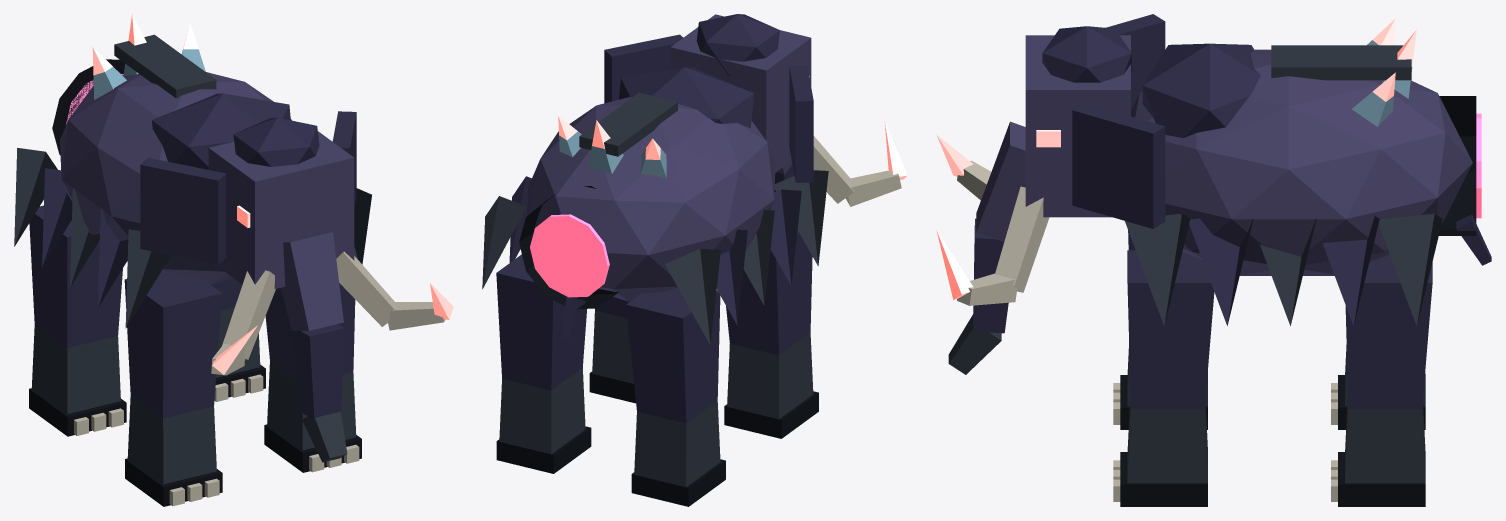
Rendered from shell.glb.
3 views of the same model, side by side, from view 1: azimuth 30°, elevation 25°; view 2: azimuth 150°, elevation 25°; view 3: azimuth 270°, elevation 25° (orthographic). The views are drawn at different scales.
Visible parts, largest first — view 1: IShellHull, IShellGlow; view 2: IShellHull, IShellGlow; view 3: IShellHull, IShellGlow.
Boxes of the visible parts, left/top/right/bottom form: IShellHull: left=14, top=34, right=445, bottom=506; IShellGlow: left=66, top=14, right=453, bottom=374; IShellHull: left=482, top=14, right=901, bottom=506; IShellGlow: left=530, top=76, right=907, bottom=297; IShellHull: left=948, top=14, right=1491, bottom=506; IShellGlow: left=936, top=19, right=1481, bottom=299.
Size of the model in its own units: 1.8 by 2.68 by 3.17.
